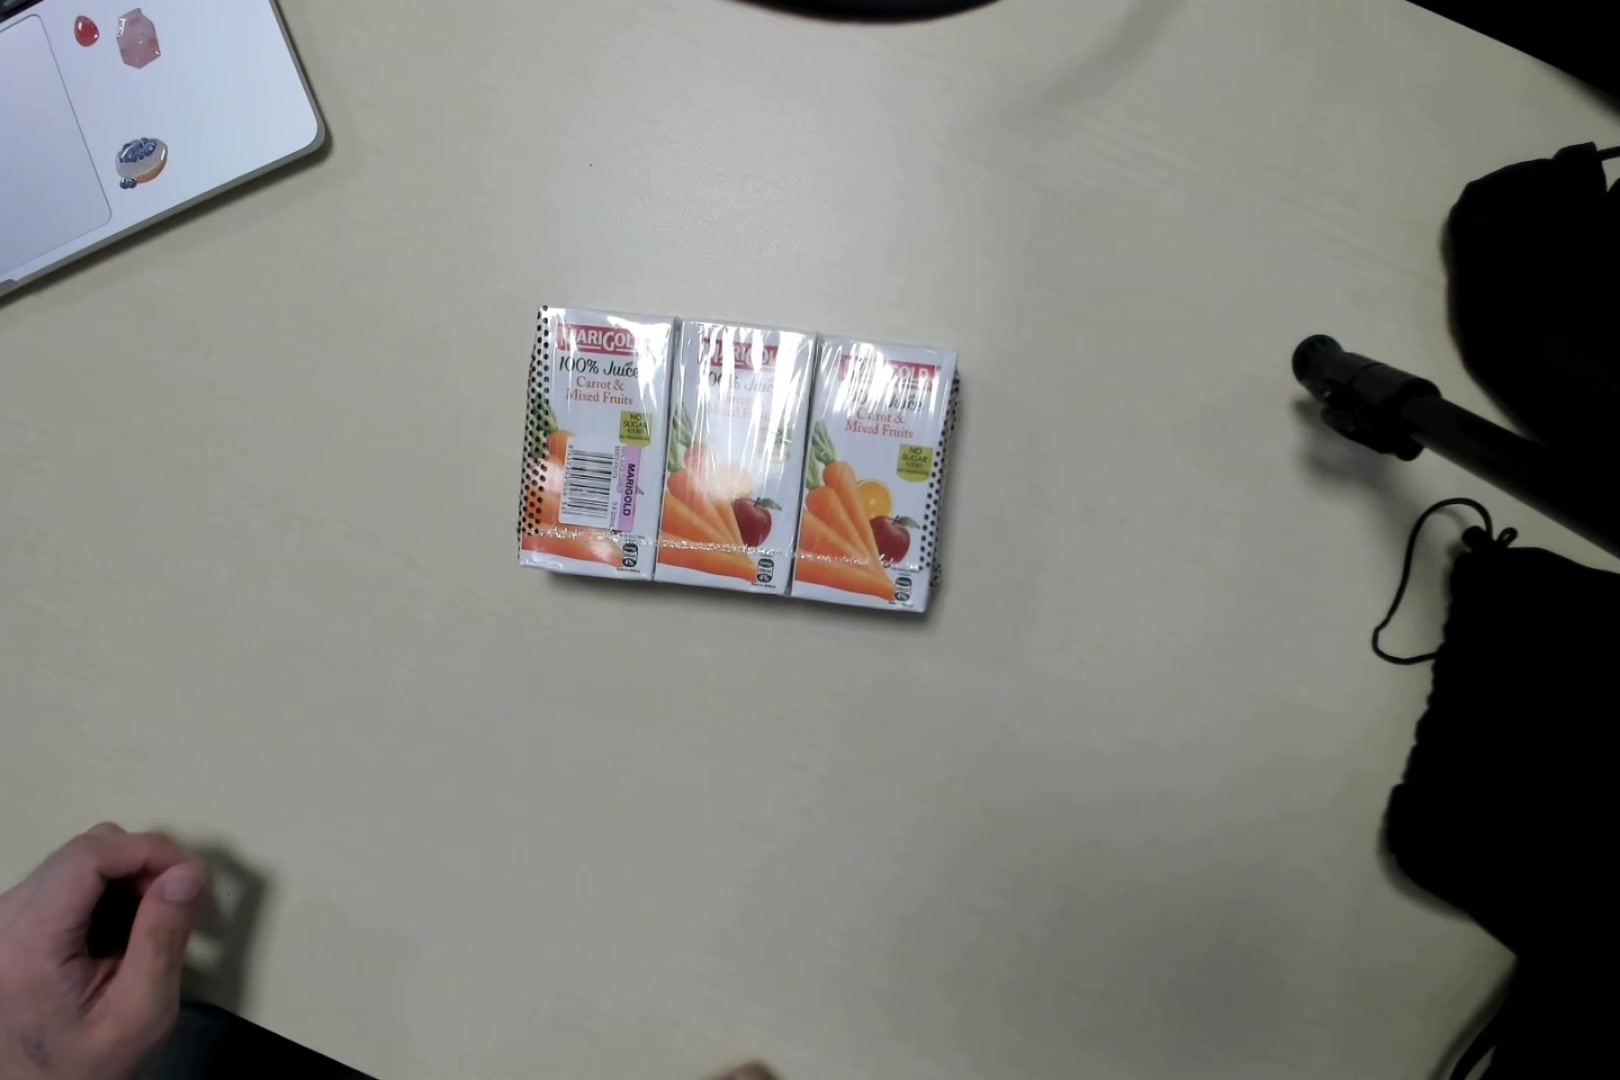FruitJuiceDrink_500-599g_Halal_NonHealthy: (521, 301, 949, 629)
